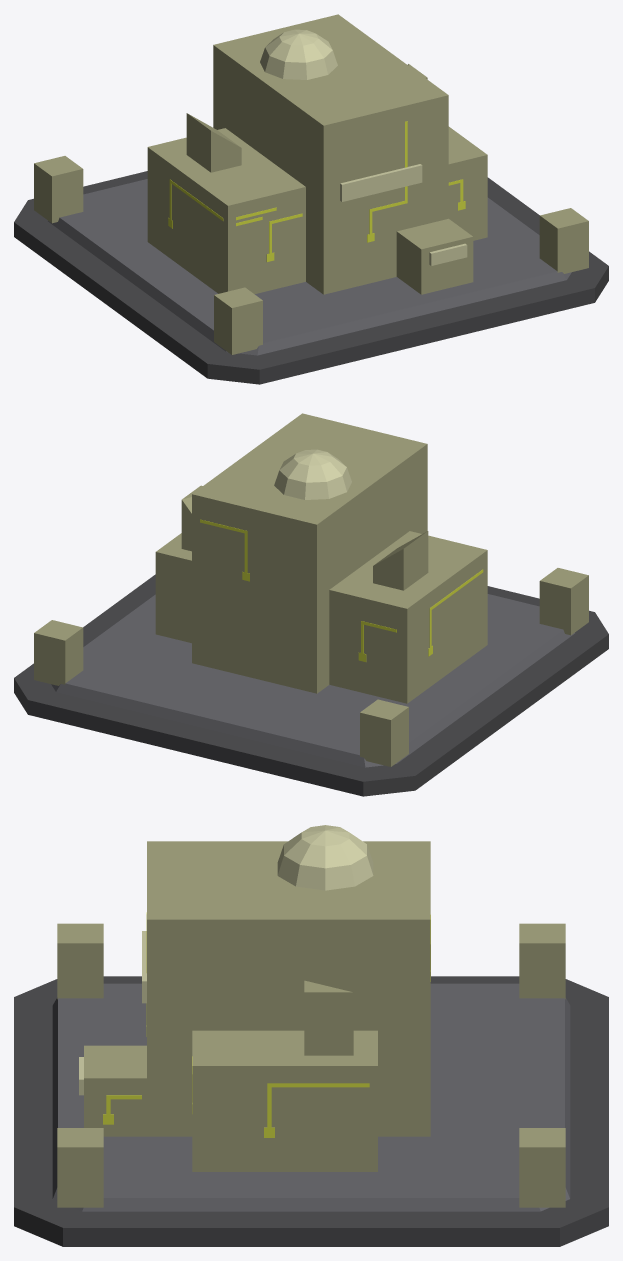
File: archotech_grand.obj
The picture shows the model from 3 angles, top to bottom: view 1: azimuth 30°, elevation 25°; view 2: azimuth 150°, elevation 25°; view 3: azimuth 270°, elevation 25°; orthographic projection. The views are drawn at different scales.
Parts seen in each view (by area): view 1: archotech_grand_6, archotech_grand_1, archotech_grand_0, archotech_grand_7, archotech_grand_9, archotech_grand_8, archotech_grand_12, archotech_grand_2, archotech_grand_4, archotech_grand_3, archotech_grand_10, archotech_grand_13 (+1 smaller); view 2: archotech_grand_6, archotech_grand_1, archotech_grand_0, archotech_grand_7, archotech_grand_8, archotech_grand_12, archotech_grand_3, archotech_grand_5, archotech_grand_2, archotech_grand_10, archotech_grand_11; view 3: archotech_grand_6, archotech_grand_1, archotech_grand_0, archotech_grand_8, archotech_grand_9, archotech_grand_12, archotech_grand_4, archotech_grand_5, archotech_grand_2, archotech_grand_3, archotech_grand_11.
Boxes of the visible parts, box(x1,y1,x2,y2) form: archotech_grand_6: box(213, 14, 448, 294); archotech_grand_1: box(48, 179, 571, 355); archotech_grand_0: box(14, 171, 608, 384); archotech_grand_7: box(147, 128, 305, 294); archotech_grand_9: box(396, 218, 473, 294); archotech_grand_8: box(448, 126, 487, 240); archotech_grand_12: box(260, 29, 337, 79); archotech_grand_2: box(214, 287, 262, 354); archotech_grand_4: box(539, 208, 588, 273); archotech_grand_3: box(34, 156, 83, 223); archotech_grand_10: box(186, 113, 241, 172); archotech_grand_13: box(340, 164, 422, 201); archotech_grand_6: box(192, 413, 427, 693); archotech_grand_1: box(51, 594, 574, 767); archotech_grand_0: box(14, 574, 608, 796); archotech_grand_7: box(329, 531, 487, 703); archotech_grand_8: box(155, 533, 191, 643); archotech_grand_12: box(274, 449, 351, 499); archotech_grand_3: box(360, 699, 408, 766); archotech_grand_5: box(34, 620, 83, 685); archotech_grand_2: box(539, 568, 588, 635); archotech_grand_10: box(373, 531, 428, 590); archotech_grand_11: box(181, 485, 202, 551); archotech_grand_6: box(147, 841, 430, 1136); archotech_grand_1: box(52, 983, 570, 1211); archotech_grand_0: box(14, 976, 608, 1246); archotech_grand_8: box(192, 1030, 377, 1171); archotech_grand_9: box(84, 1045, 146, 1136); archotech_grand_12: box(277, 825, 373, 890); archotech_grand_4: box(57, 1128, 103, 1207); archotech_grand_5: box(519, 1128, 565, 1207); archotech_grand_2: box(57, 923, 103, 999); archotech_grand_3: box(519, 923, 565, 999); archotech_grand_11: box(304, 980, 353, 1055).
Size of the model in its own units: 8.5 by 4.51 by 8.5.
